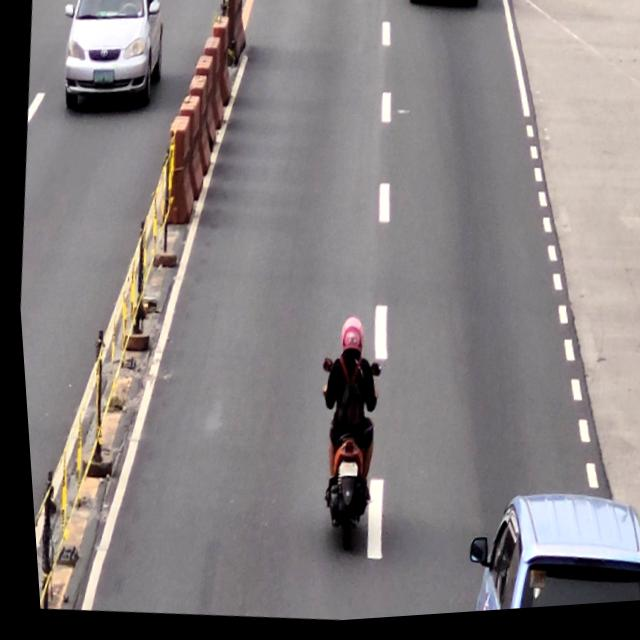Car: (457, 482, 640, 617)
Motorcycle: (298, 320, 383, 551)
